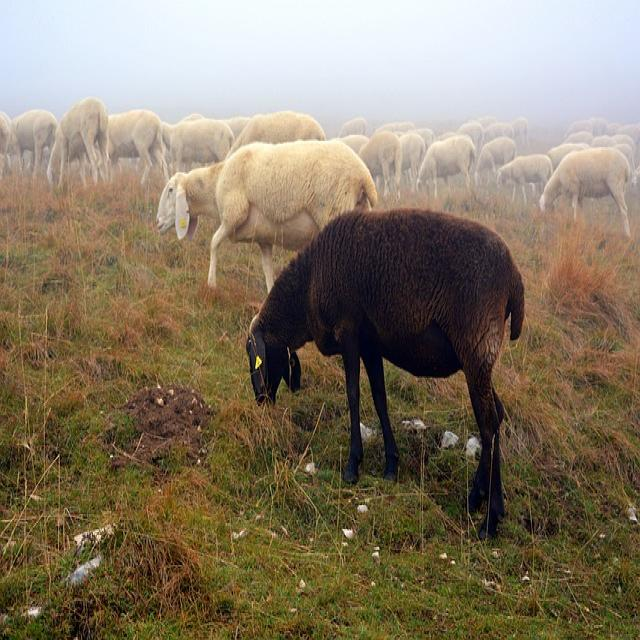goat: (245, 208, 525, 540), (156, 139, 379, 295), (539, 144, 640, 241), (47, 97, 109, 187), (11, 109, 58, 175)
